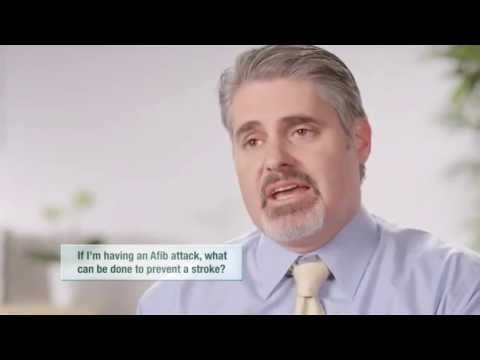stroke: (221, 102, 364, 225)
